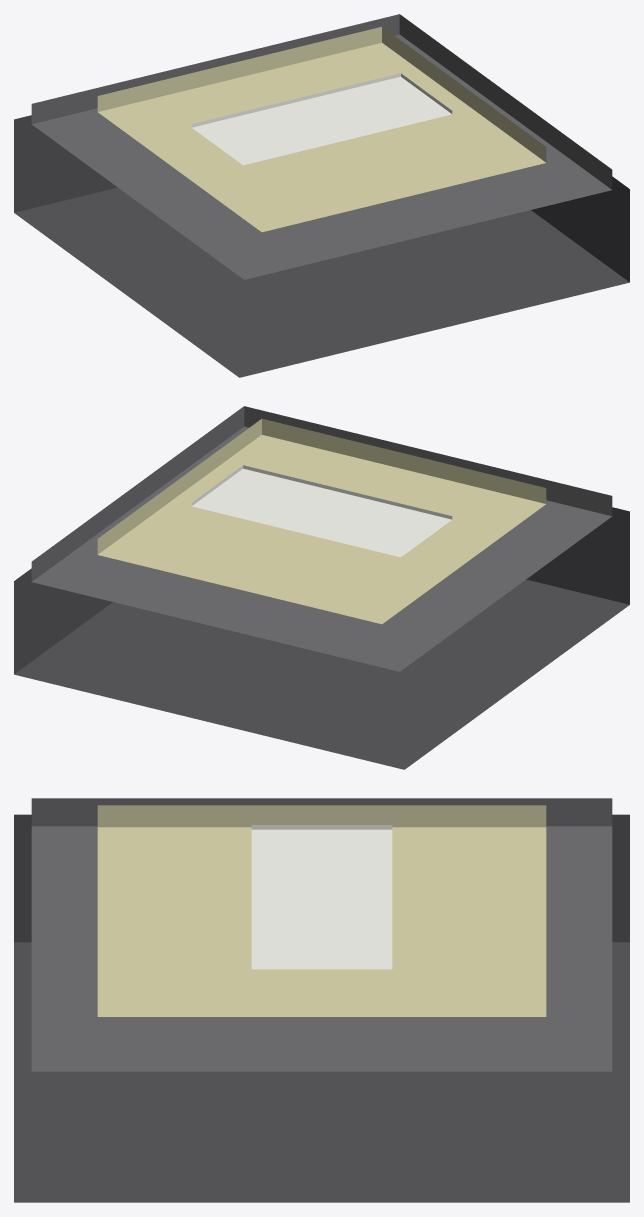
The model's file is korry.glb.
3 renders of one model, top to bottom at view 1: azimuth 30°, elevation 25°; view 2: azimuth 150°, elevation 25°; view 3: azimuth 270°, elevation 25°, orthographic. The views are drawn at different scales.
Size of the model in its own units: 14 by 4.46 by 14.
